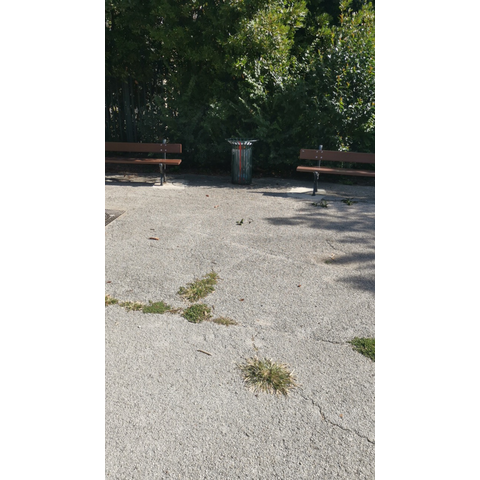poubelle: (224, 131, 267, 193)
